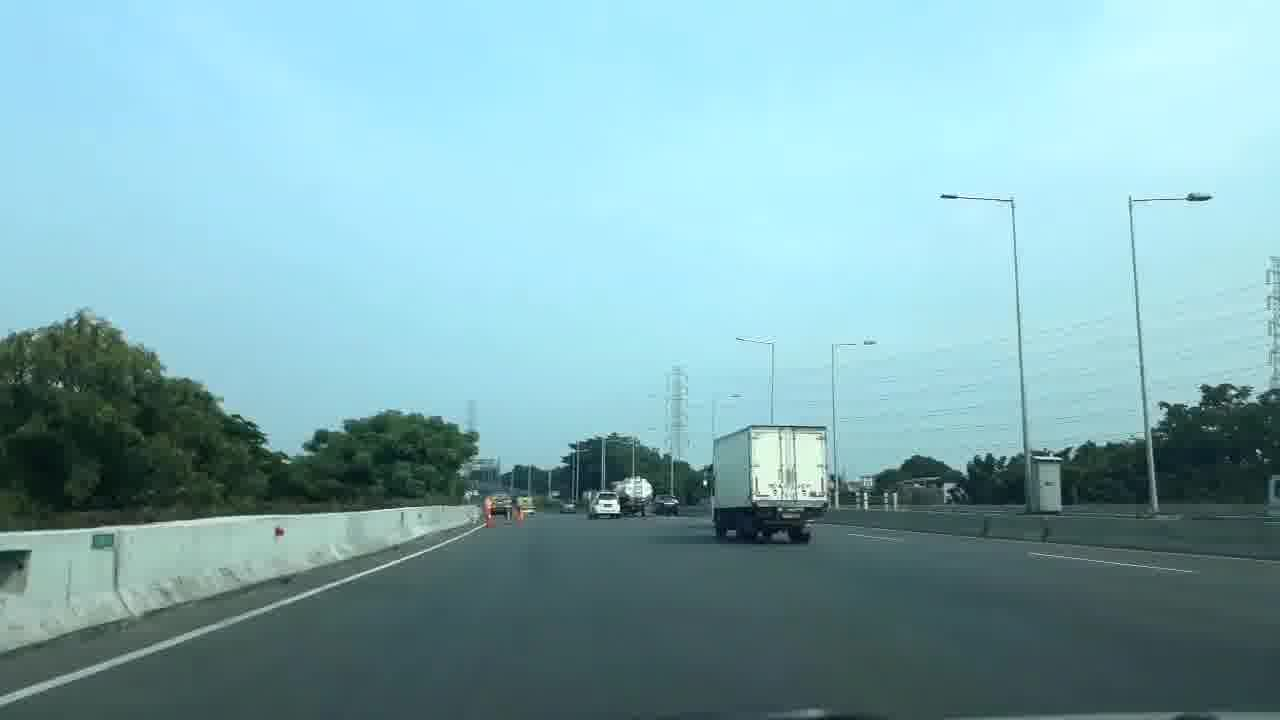plate_positive: (780, 512, 801, 519)
